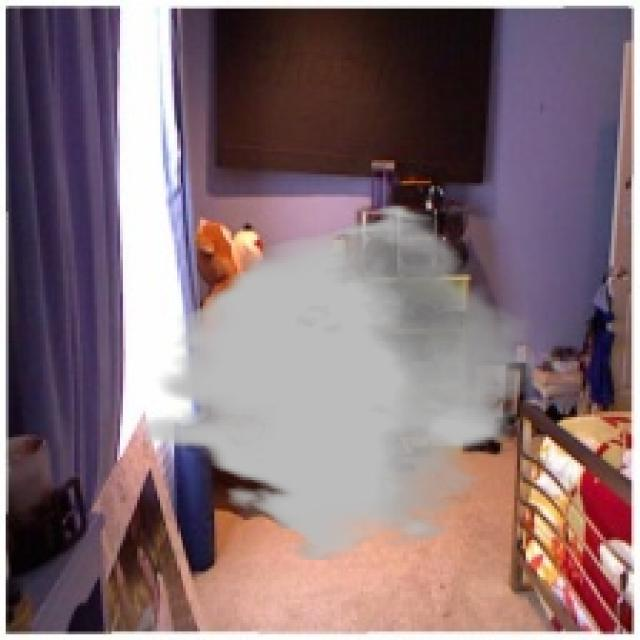smoke: (146, 203, 534, 563)
